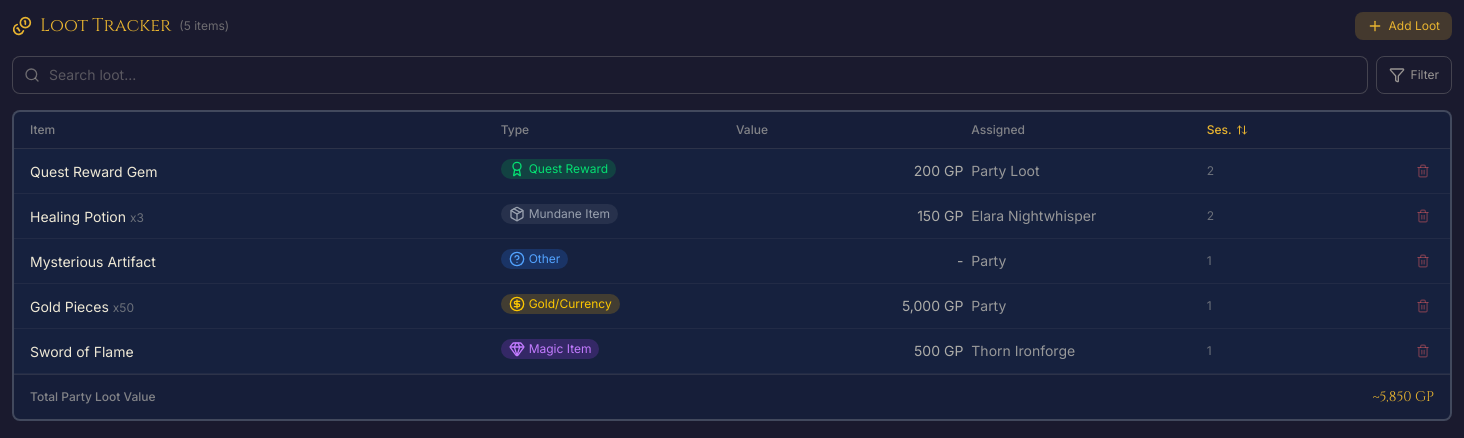
Test: LootTracker › should clear filters when clear button clicked
Type "Sword" into the field labelled "Search loot".
click(690, 75); type("Sword")  # box [12,56,1368,94]
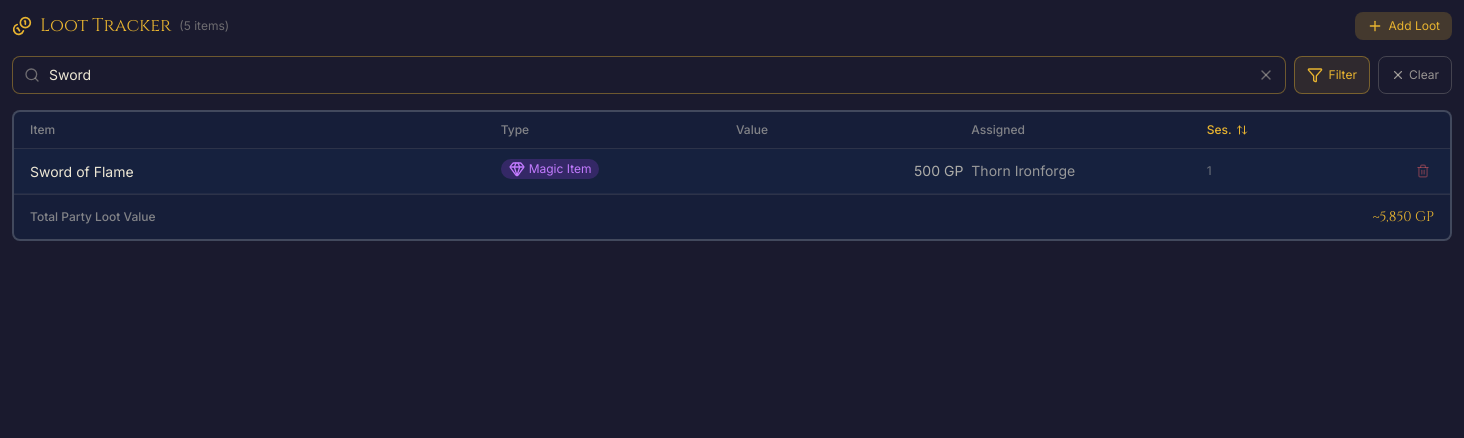
Now the text "Gold Pieces" is gone
Click the button with aria-label "Clear all filters".
click(1415, 75)  # box [1378,56,1452,94]
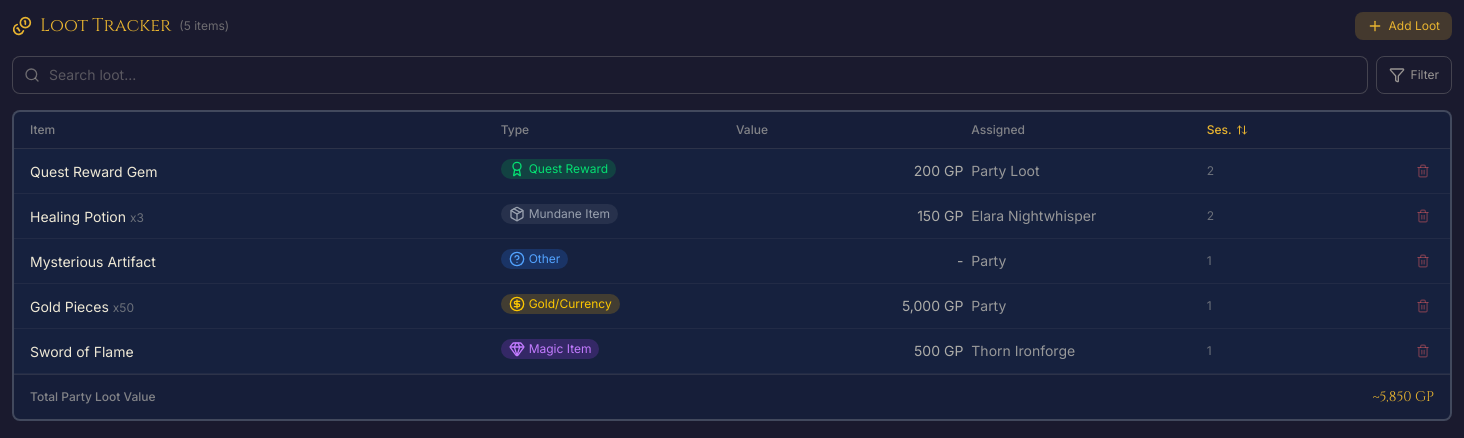
Now the text "Gold Pieces" is shown, box [30,298,109,315]
